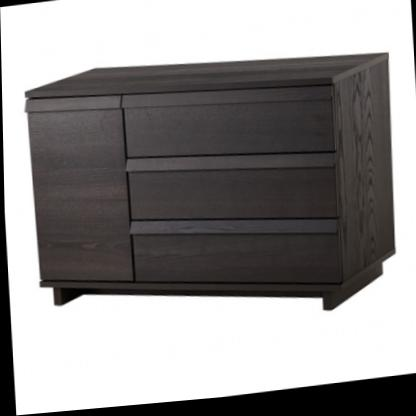Cabinet: (20, 33, 406, 356)
